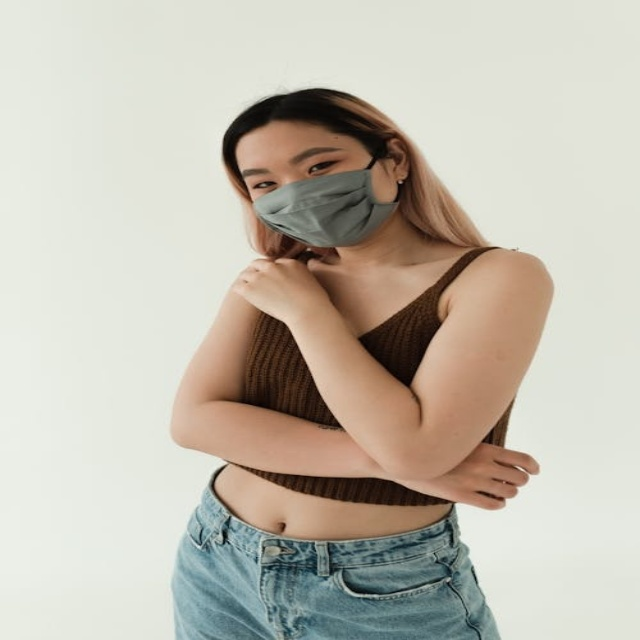Mascara: (252, 155, 401, 248)
Sin_gafas: (242, 143, 347, 189)
Sin_guantes: (434, 436, 544, 511), (238, 254, 333, 319)
